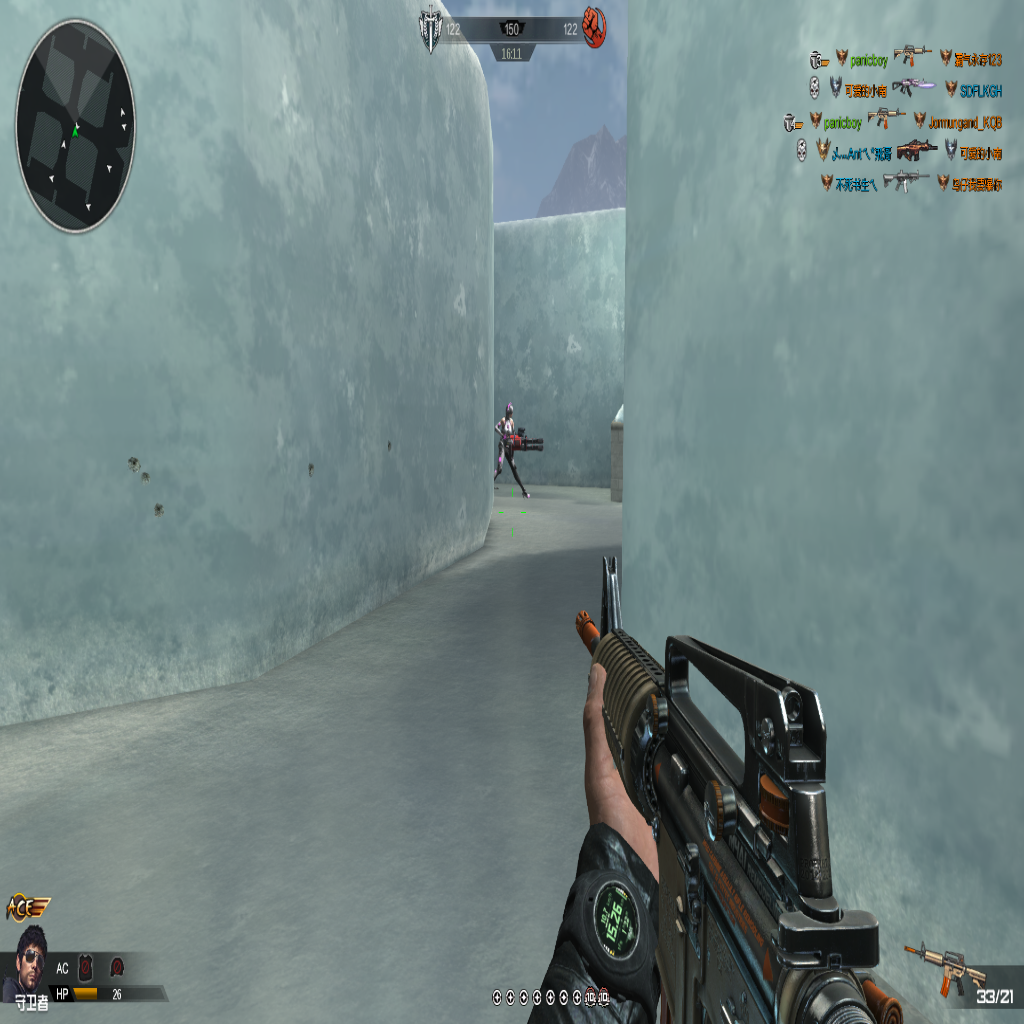tt: (494, 400, 525, 494)
